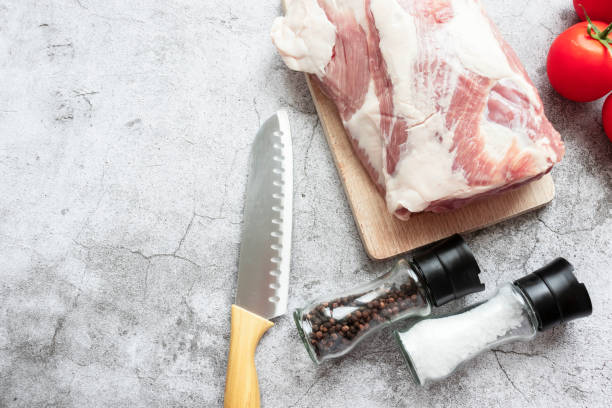knife: (222, 108, 297, 408)
